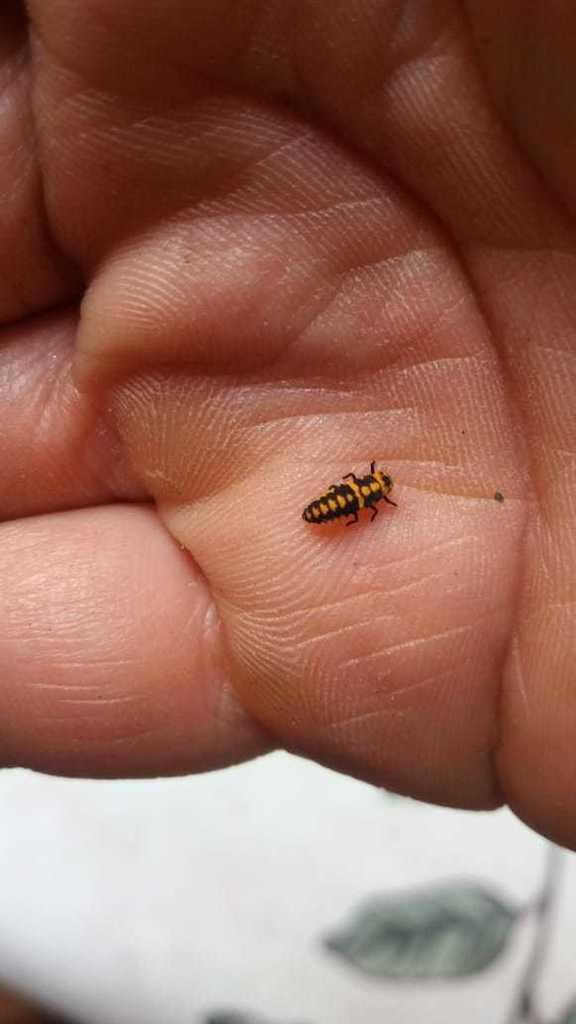ladybug: (299, 454, 404, 531)
